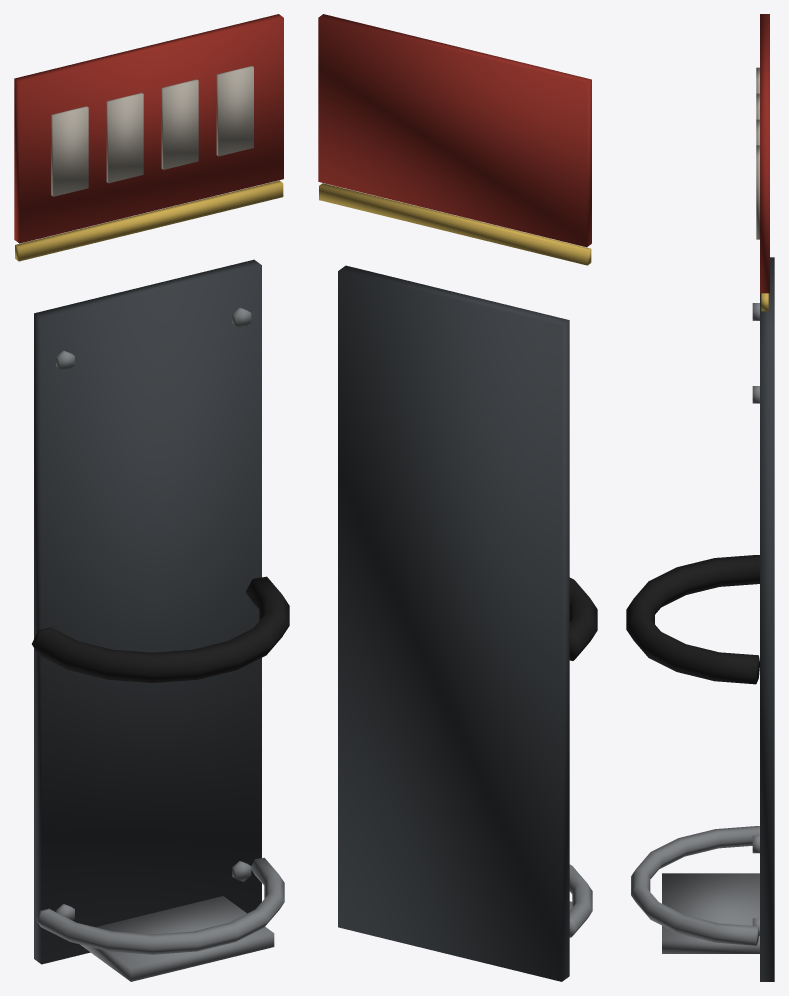
Rendered from extinguisher_bracket.fbx.
The picture shows the model from 3 angles, left to right: view 1: azimuth 30°, elevation 25°; view 2: azimuth 150°, elevation 25°; view 3: azimuth 270°, elevation 25°; orthographic projection. The views are drawn at different scales.
Visible parts, largest first — view 1: ExtinguisherBracket; view 2: ExtinguisherBracket; view 3: ExtinguisherBracket.
Part boxes in pixels (box(x1,y1,x2,y2)): ExtinguisherBracket: box(14, 14, 289, 981); ExtinguisherBracket: box(318, 14, 597, 981); ExtinguisherBracket: box(626, 14, 774, 981).
Size of the model in its own units: 24 by 77 by 12.13.
